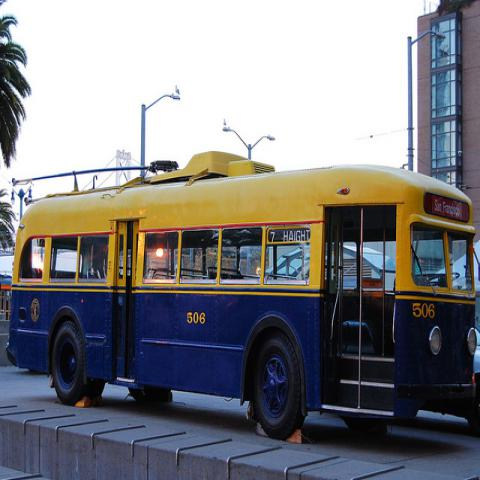bus: (4, 150, 479, 442)
